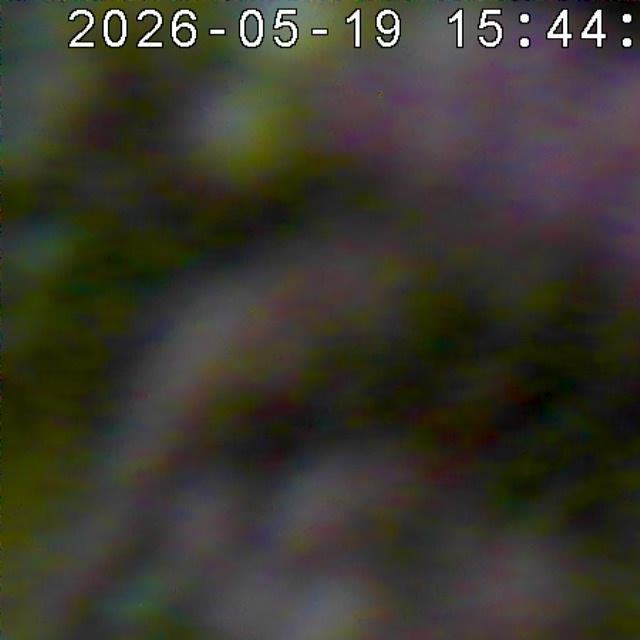SeaGrape: (171, 67, 304, 198)
